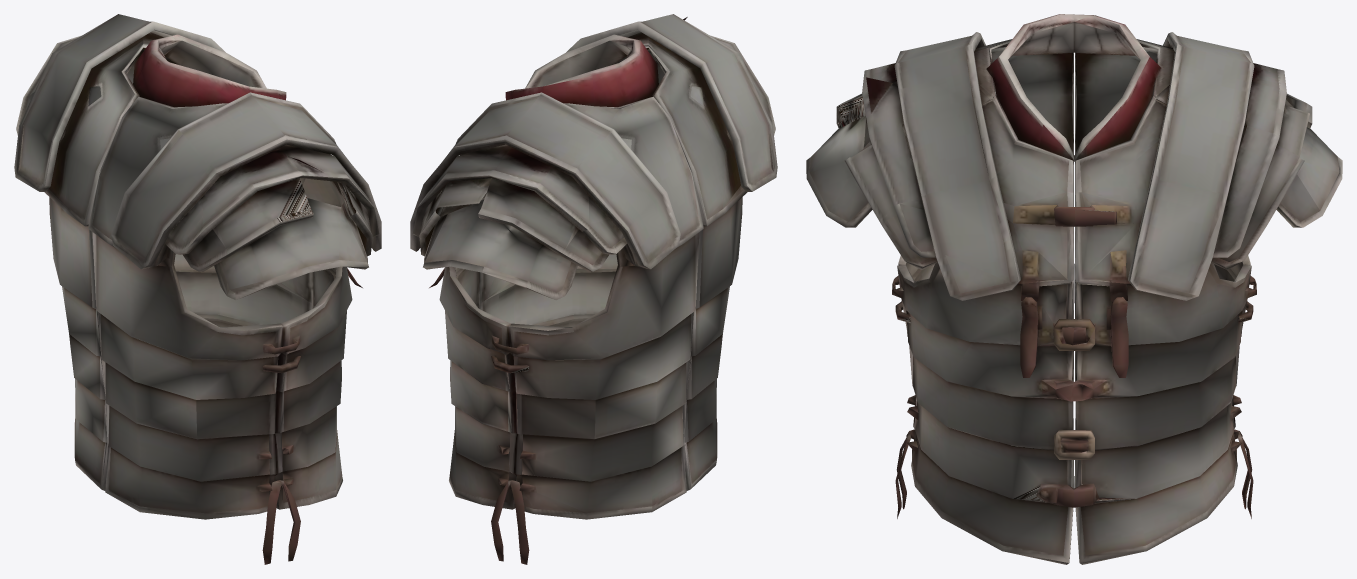
The model's file is legion_lorica.glb.
3 renders of one model, left to right at view 1: azimuth 30°, elevation 25°; view 2: azimuth 150°, elevation 25°; view 3: azimuth 270°, elevation 25°, orthographic. The views are drawn at different scales.
Parts seen in each view (by area): view 1: model; view 2: model; view 3: model.
Part boxes in pixels (x1,y1,x2,y2): model: (14, 14, 381, 564); model: (410, 14, 777, 564); model: (806, 14, 1342, 564).
Size of the model in its own units: 0.606 by 1 by 1.01.
1 material, 1 textured.
